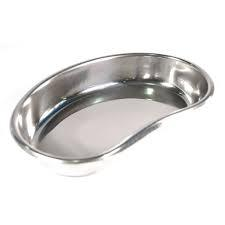Kidney Tray: (7, 50, 215, 175)
